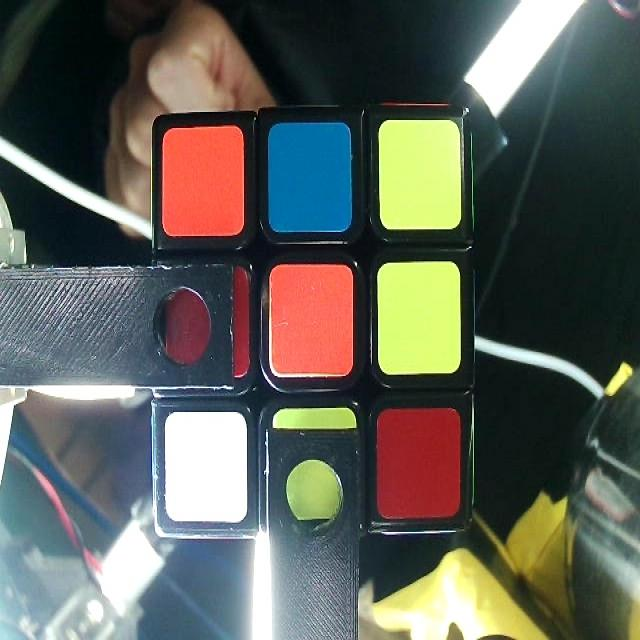b: (269, 126, 351, 228)
o: (162, 130, 245, 234), (272, 268, 352, 374)
r: (375, 408, 463, 515), (163, 265, 247, 373)
w: (165, 417, 248, 517)
y: (275, 410, 356, 526), (378, 264, 461, 370), (380, 122, 460, 230)
